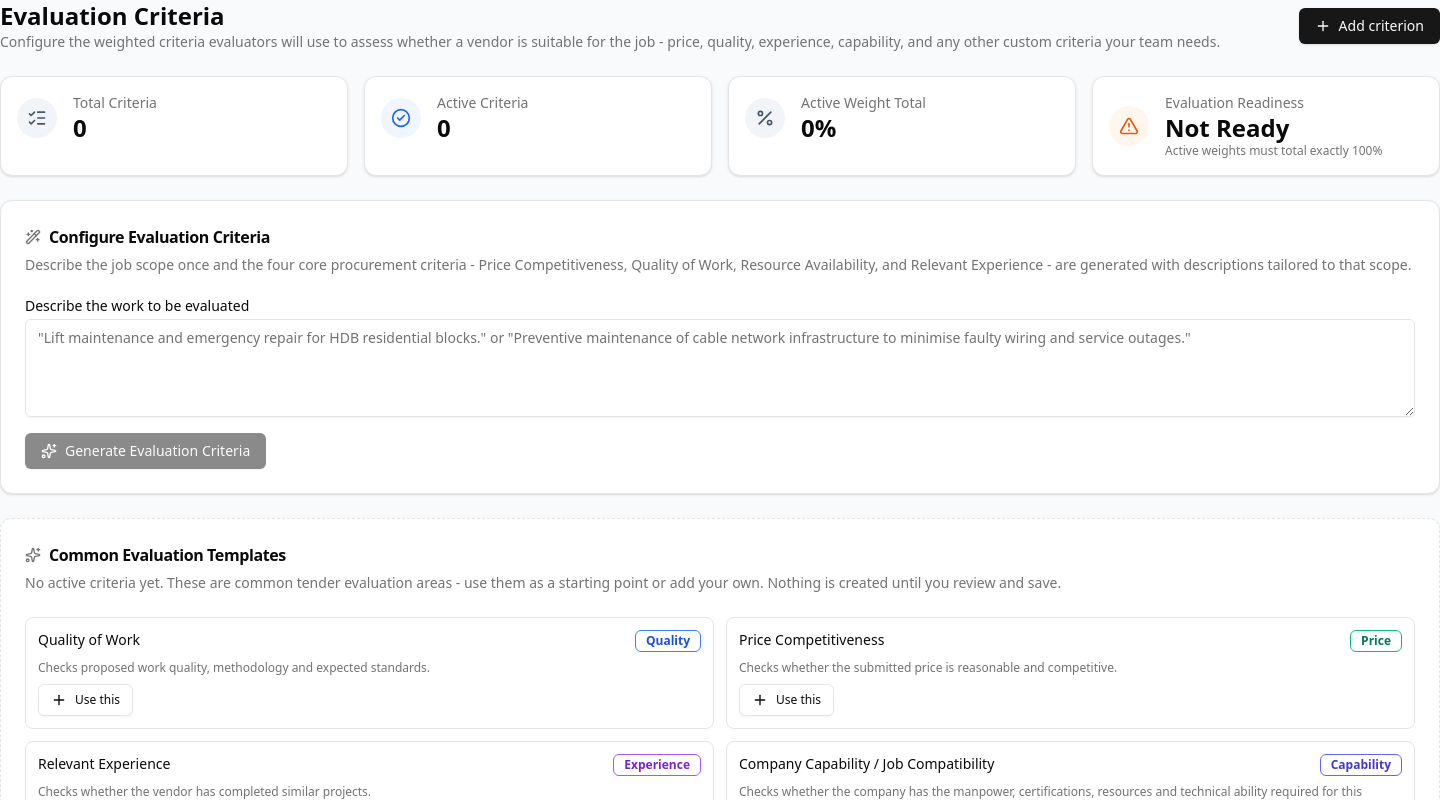
EvaluationCriteriaPage (Jerrold - Scope B) › prompts to reuse the existing criterion when creation is rejected as a duplicate
The width and height of the screenshot is (1440, 800).
Click the 2nd button "Use this". click: coordinates (786, 700)
box: [739, 684, 834, 716]
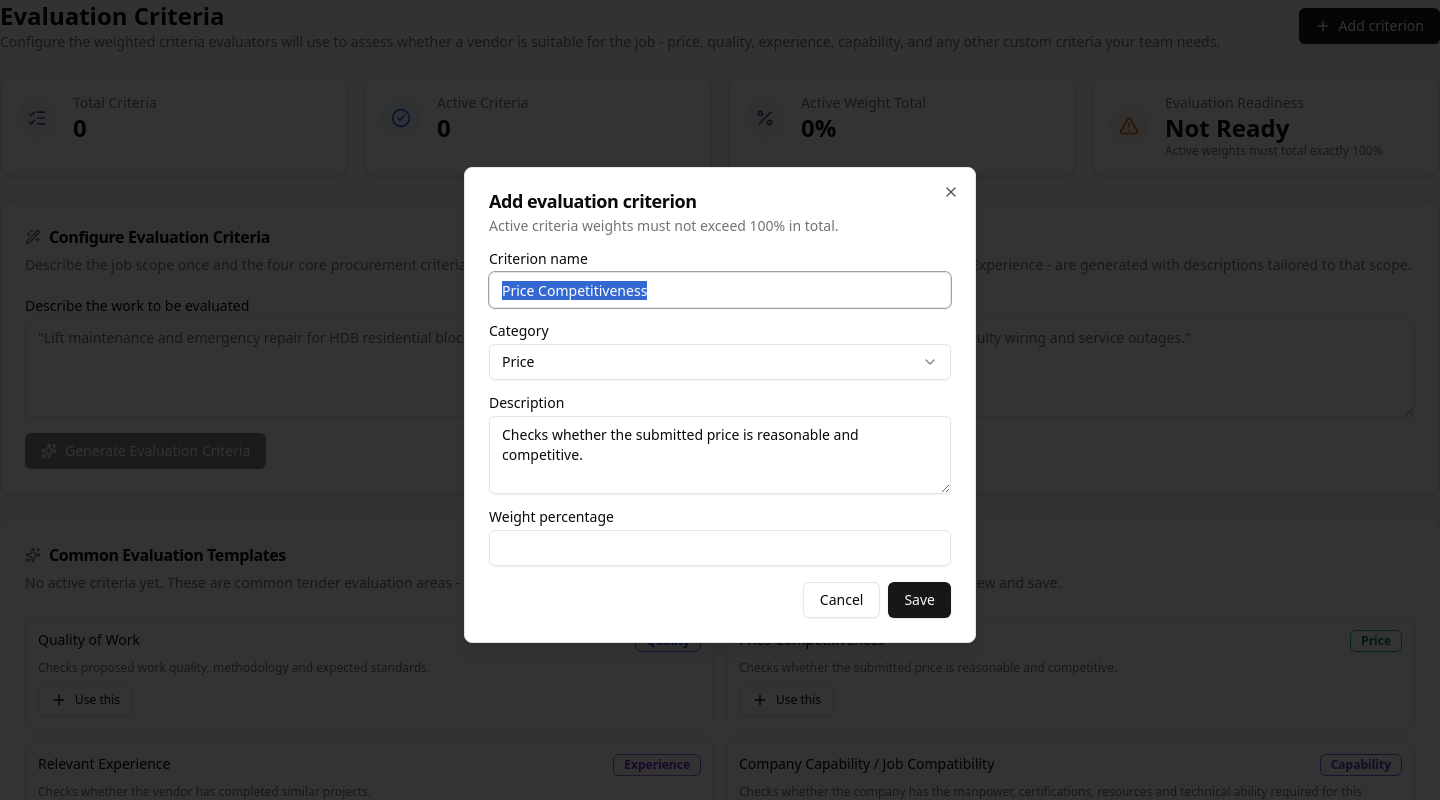
Type "60" into the number field labelled "Weight percentage". click: coordinates (720, 548)
box: [489, 530, 951, 566]
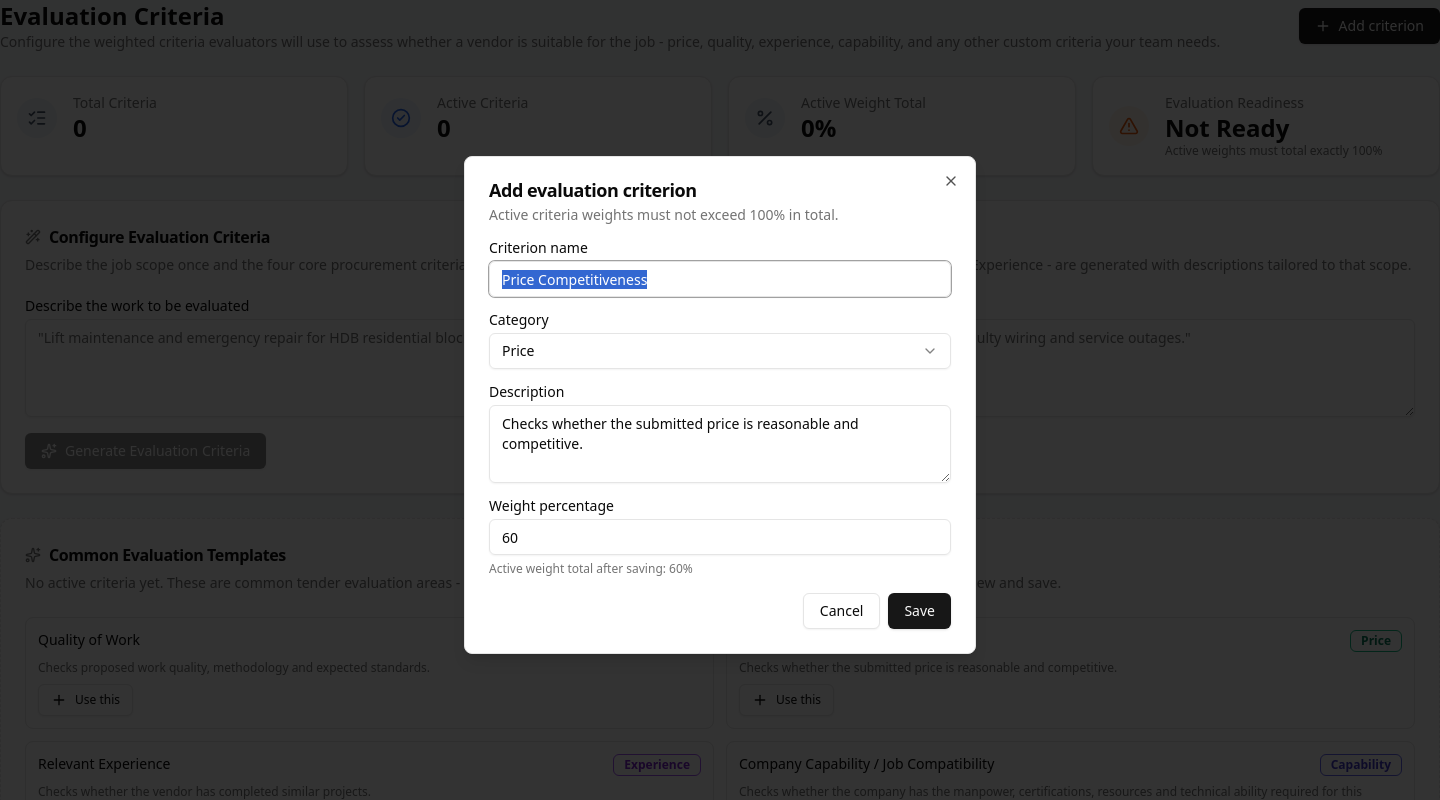
Click the button "Save". click: coordinates (920, 611)
box: [888, 593, 951, 629]
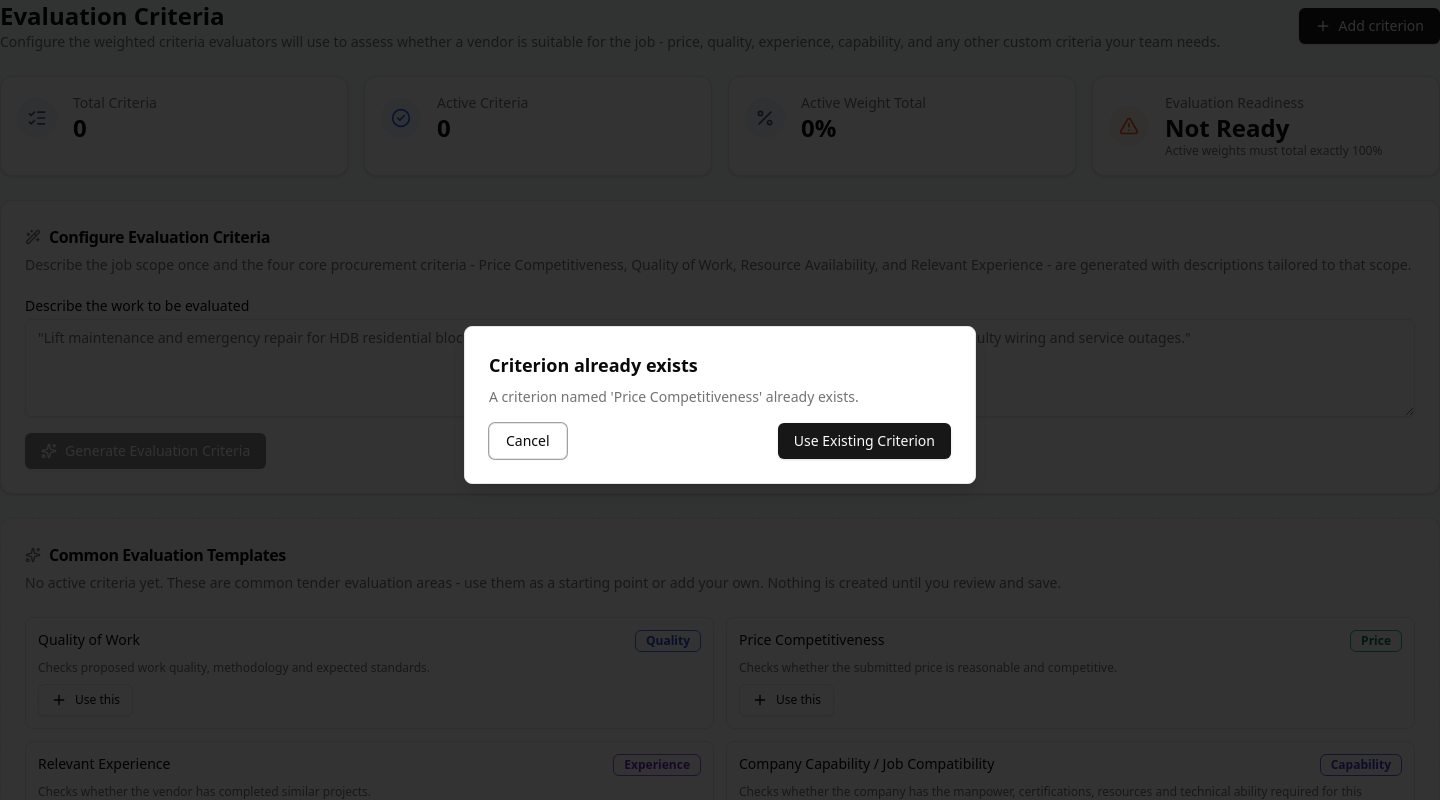
Check: the heading "Criterion already exists" is shown, box [489, 353, 698, 377]
Check: the text "A criterion named 'Price Competitiveness' already exists." is shown, box [489, 387, 859, 406]
